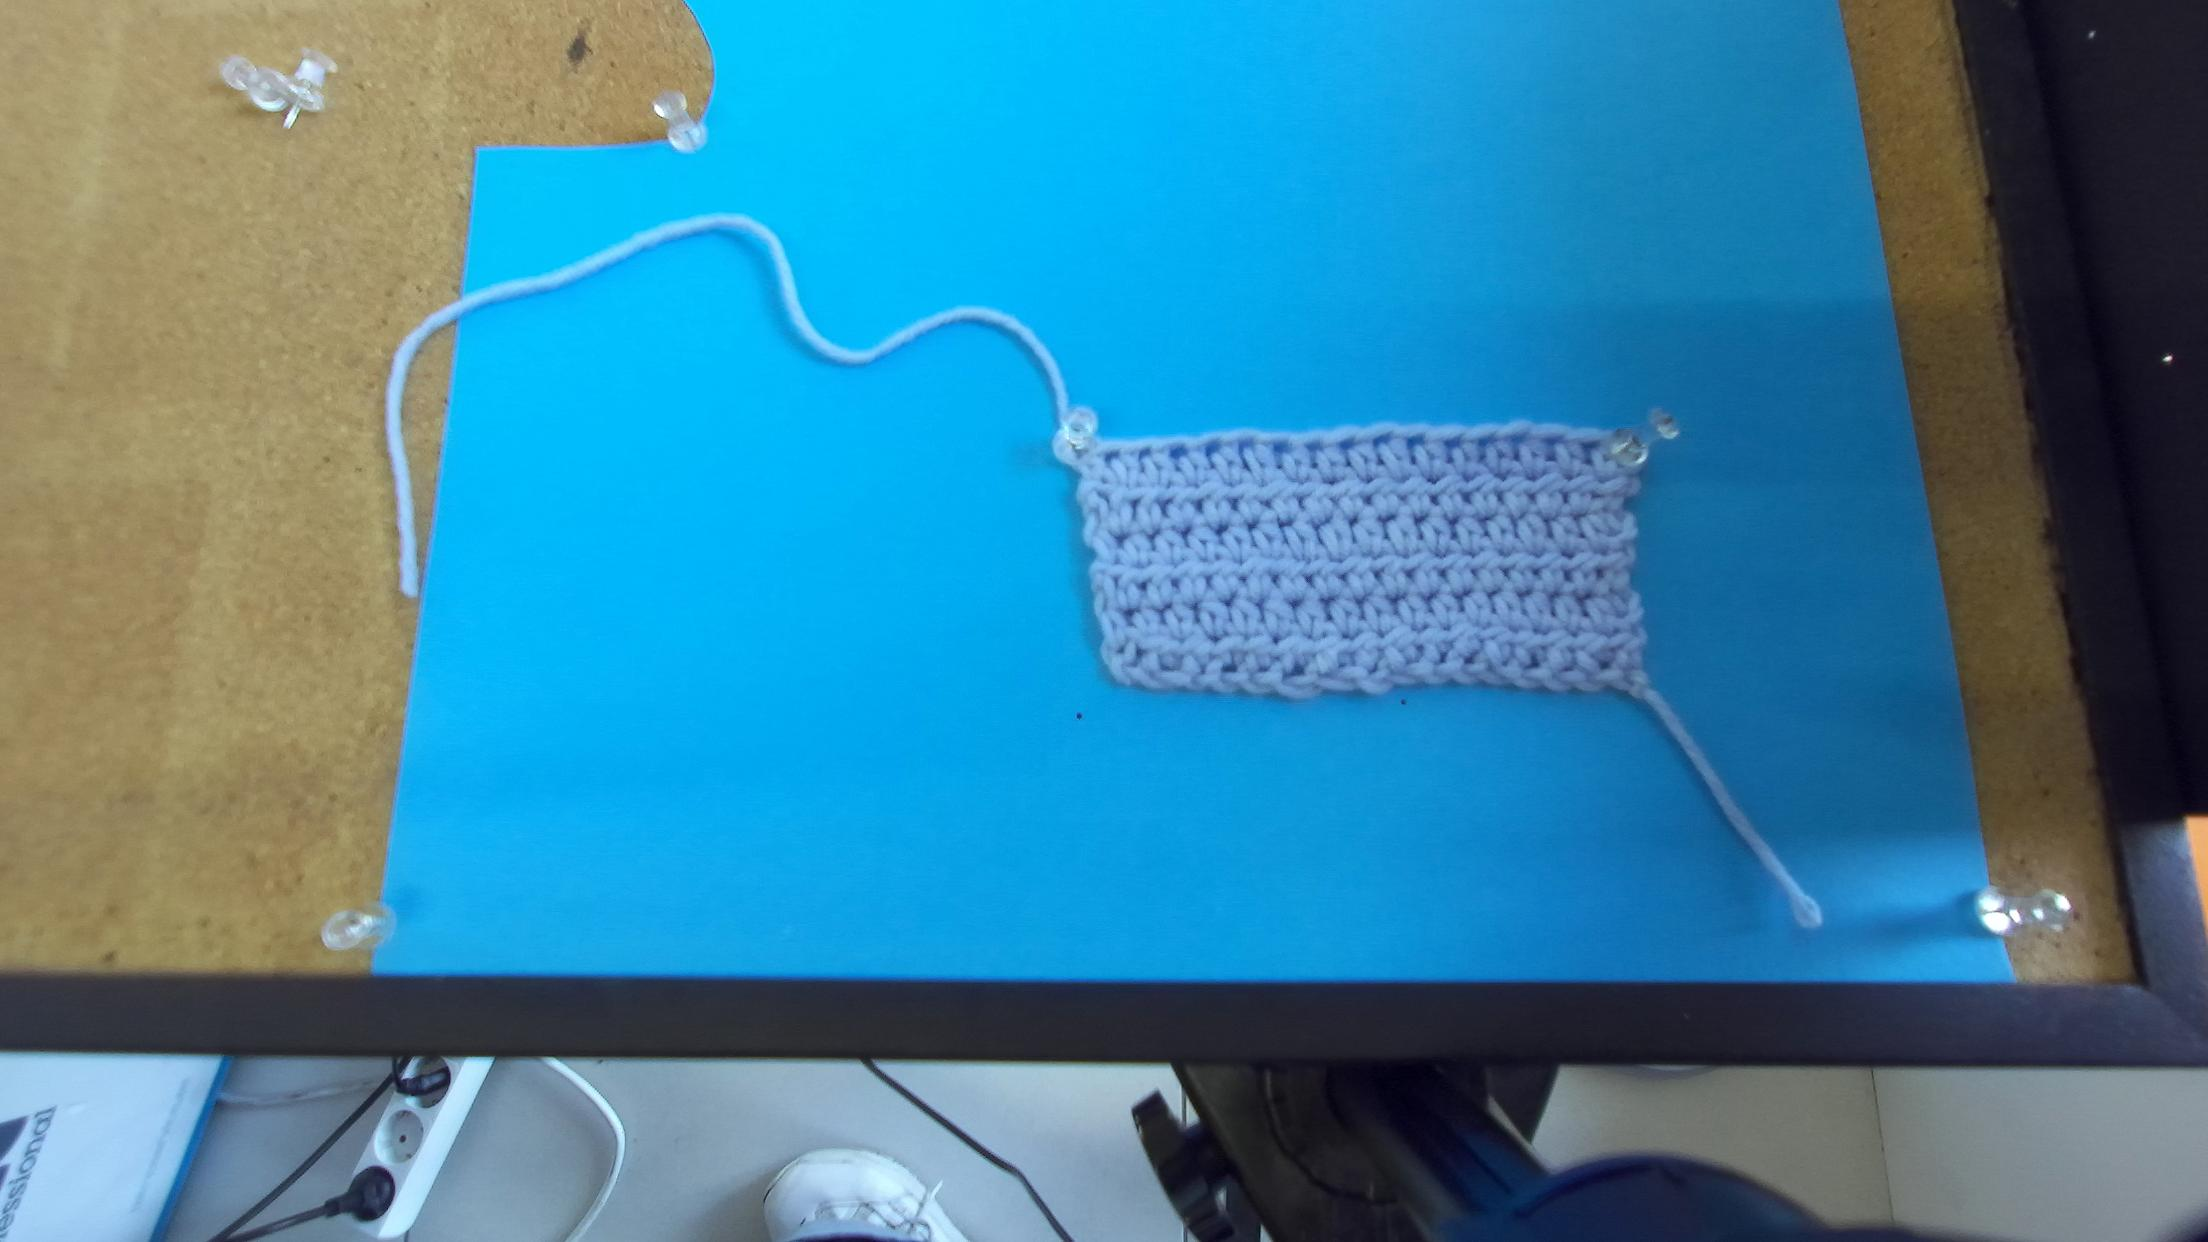hole: (1372, 430, 1395, 448), (1336, 436, 1361, 451), (1441, 433, 1463, 449), (1474, 433, 1496, 448), (1103, 449, 1120, 468), (1406, 434, 1426, 450), (1272, 440, 1294, 454), (1507, 431, 1530, 444), (1303, 439, 1325, 452), (1169, 445, 1188, 460), (1578, 440, 1598, 453), (1205, 441, 1220, 458), (1137, 447, 1152, 463), (1238, 439, 1254, 454), (1538, 436, 1563, 445)
swatch: (1056, 421, 1651, 704)
